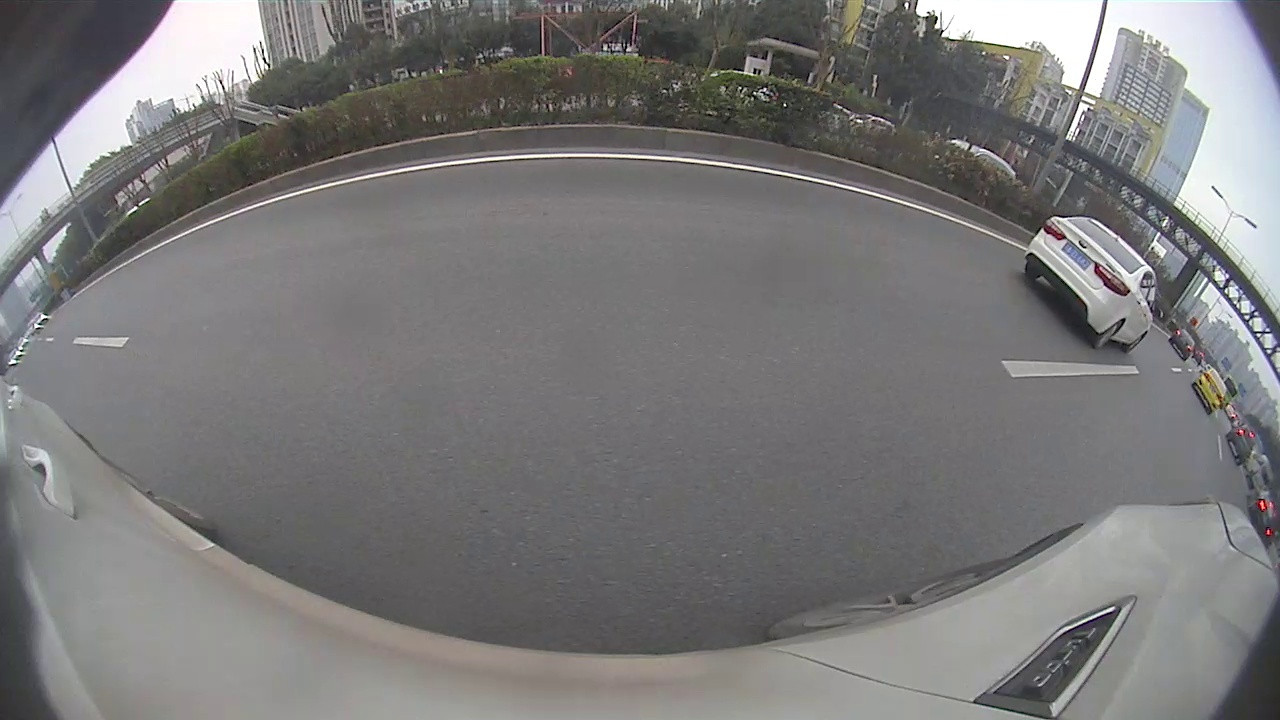car: (1023, 213, 1160, 356), (1191, 363, 1231, 417), (1165, 323, 1198, 362)
rear: (1089, 321, 1121, 352)
